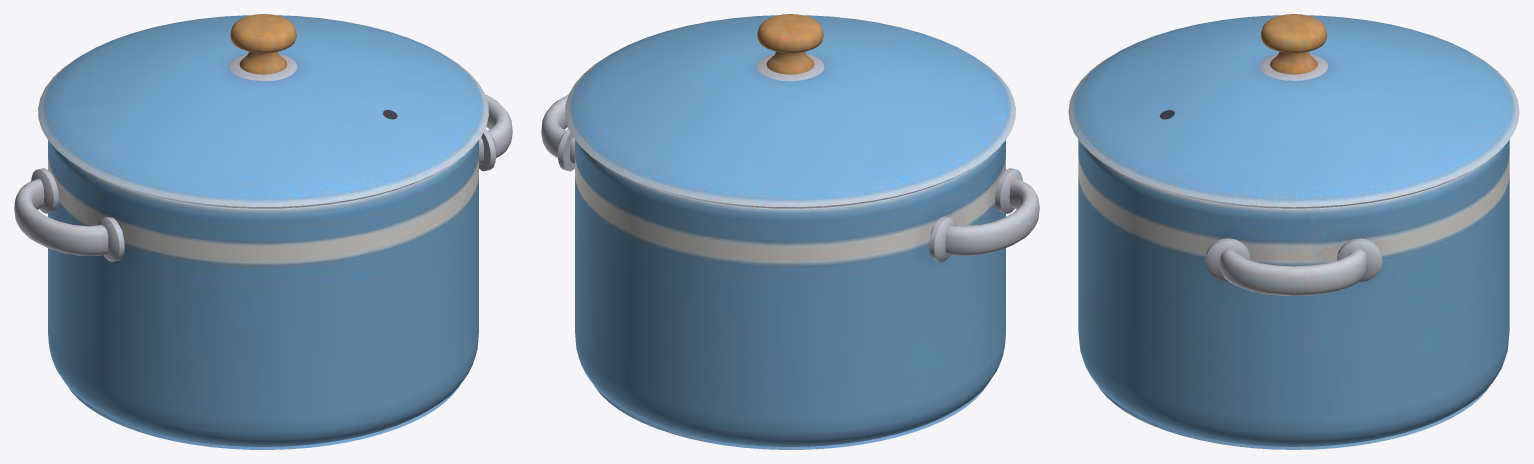
Rendered from cooking-pot.glb.
3 views of the same model, side by side, from view 1: azimuth 30°, elevation 25°; view 2: azimuth 150°, elevation 25°; view 3: azimuth 270°, elevation 25° (orthographic).
Visible parts, largest first — view 1: cooking-pot_body, cooking-pot_lid; view 2: cooking-pot_body, cooking-pot_lid; view 3: cooking-pot_body, cooking-pot_lid.
Part boxes in pixels (x1,y1,x2,y2): cooking-pot_body: (14,94,512,449); cooking-pot_lid: (38,14,488,208); cooking-pot_body: (541,94,1039,449); cooking-pot_lid: (565,14,1015,208); cooking-pot_body: (1078,140,1509,449); cooking-pot_lid: (1068,14,1519,208).
Bounding box in the file's own units: 0.2989 × 0.2067 × 0.2468.
Materials: 2 (2 with a texture image).
